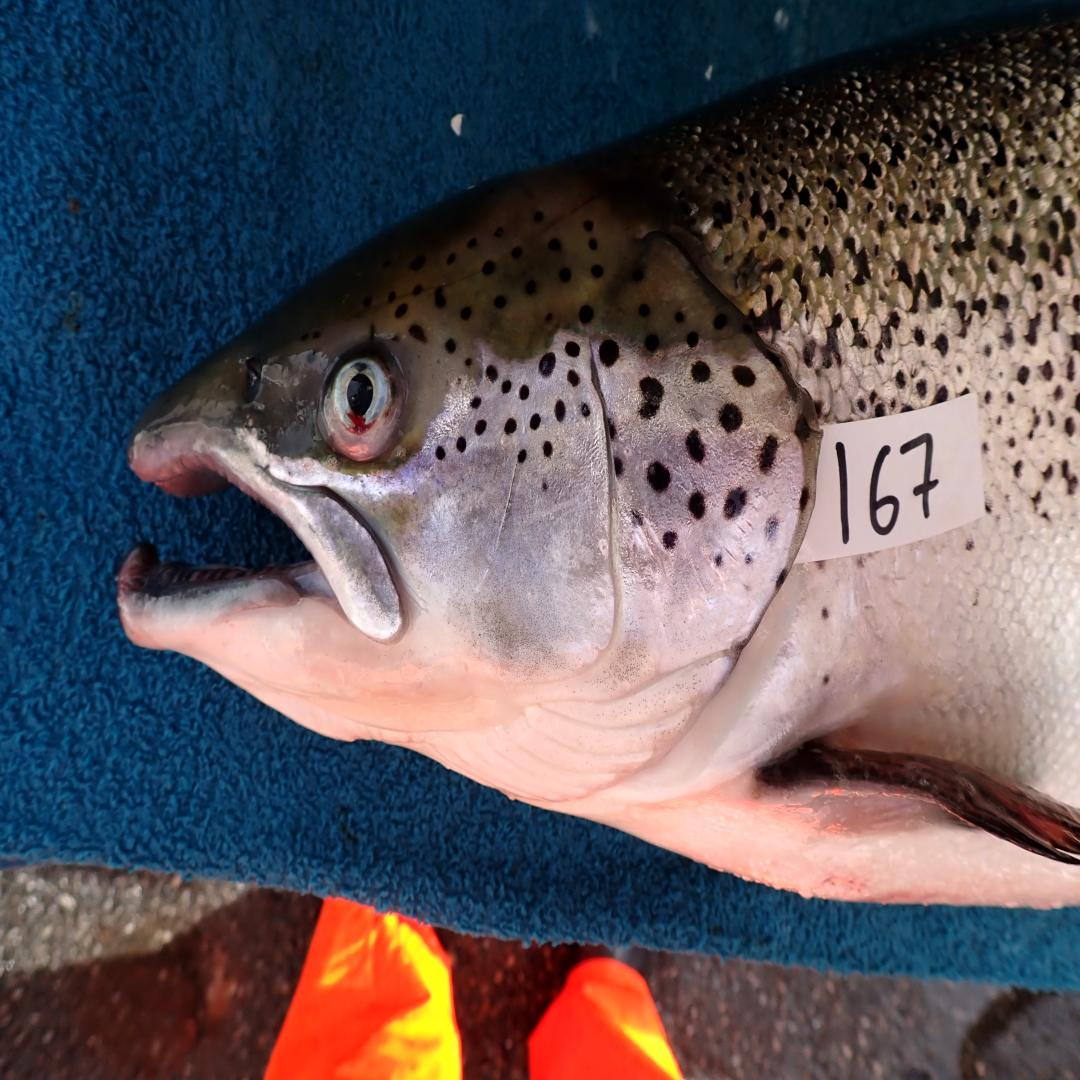roi: (399, 331, 815, 806)
